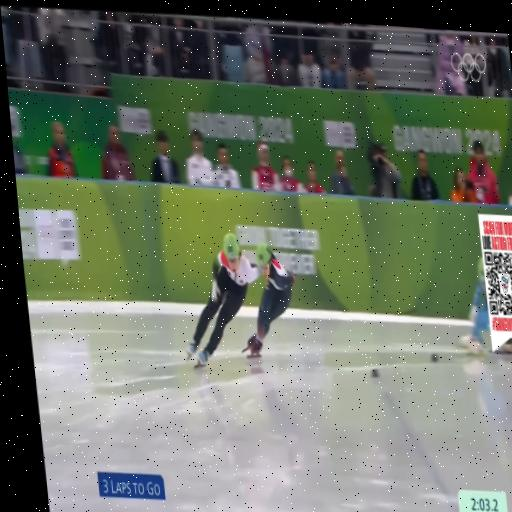Skater: (187, 234, 261, 366), (244, 244, 294, 356), (461, 258, 490, 355), (492, 256, 512, 356)
